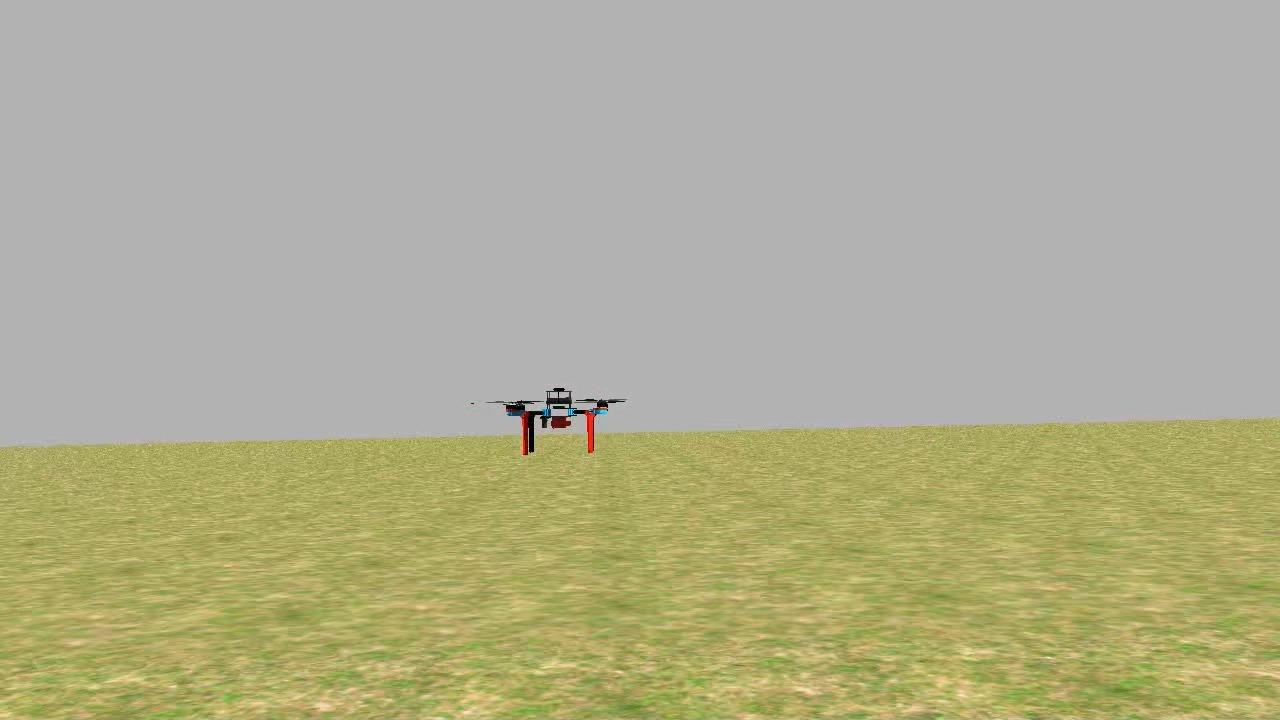UAV: (496, 387, 619, 456)
